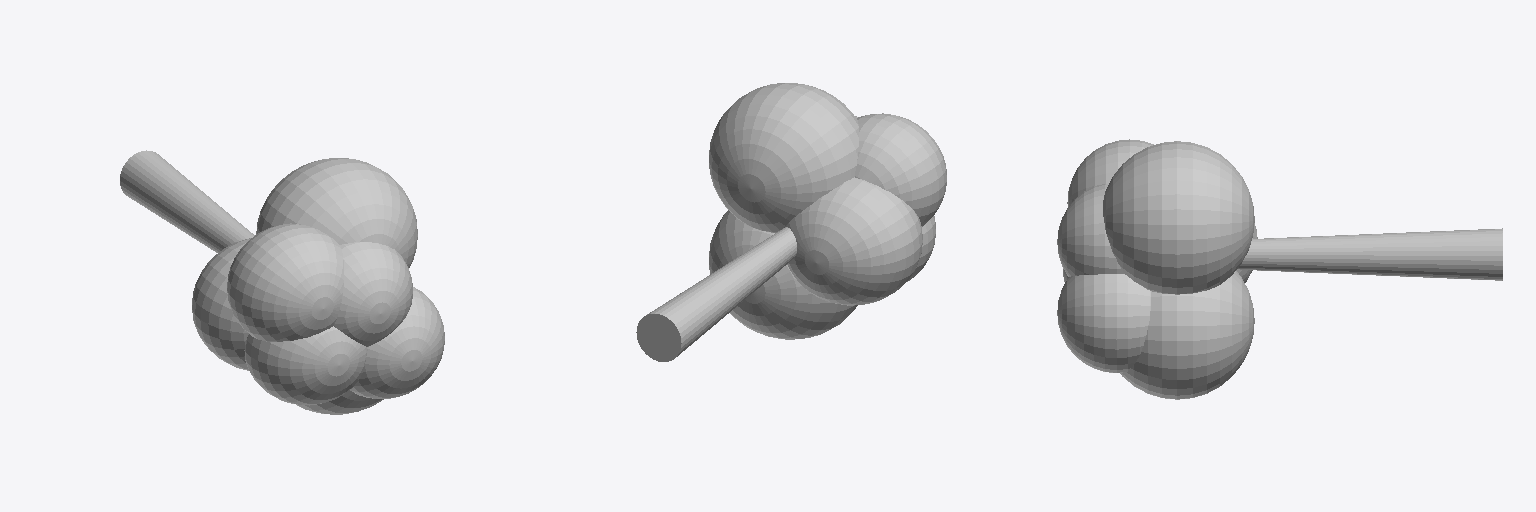
Rendered from ObjectBirchTree.obj.
3 views of the same model, side by side, from view 1: azimuth 30°, elevation 25°; view 2: azimuth 150°, elevation 25°; view 3: azimuth 270°, elevation 25° (orthographic).
Visible parts, largest first — view 1: Sphere.002, Sphere.004, Sphere.005, Sphere.006, Cylinder, Sphere, Sphere.001, Sphere.003; view 2: Sphere.004, Sphere.001, Cylinder, Sphere.003, Sphere.002, Sphere.005; view 3: Sphere.004, Sphere.003, Cylinder, Sphere, Sphere.006, Sphere.002.
Boxes of the visible parts, x1=… form: Sphere.002: x1=227, y1=223, x2=343, y2=341; Sphere.004: x1=256, y1=158, x2=417, y2=267; Sphere.005: x1=244, y1=326, x2=366, y2=405; Sphere.006: x1=334, y1=242, x2=412, y2=346; Cylinder: x1=120, y1=150, x2=254, y2=252; Sphere: x1=350, y1=287, x2=444, y2=398; Sphere.001: x1=192, y1=238, x2=250, y2=370; Sphere.003: x1=297, y1=390, x2=383, y2=414; Sphere.004: x1=709, y1=83, x2=858, y2=232; Sphere.001: x1=784, y1=177, x2=922, y2=305; Cylinder: x1=636, y1=227, x2=796, y2=361; Sphere.003: x1=709, y1=210, x2=857, y2=339; Sphere.002: x1=855, y1=113, x2=946, y2=226; Sphere.005: x1=907, y1=216, x2=935, y2=281; Sphere.004: x1=1103, y1=141, x2=1254, y2=294; Sphere.003: x1=1120, y1=271, x2=1254, y2=399; Cylinder: x1=1238, y1=228, x2=1502, y2=280; Sphere: x1=1057, y1=274, x2=1150, y2=372; Sphere.006: x1=1057, y1=184, x2=1124, y2=276; Sphere.002: x1=1067, y1=139, x2=1153, y2=206.
Size of the model in its own units: 3.75 by 4.31 by 7.17.